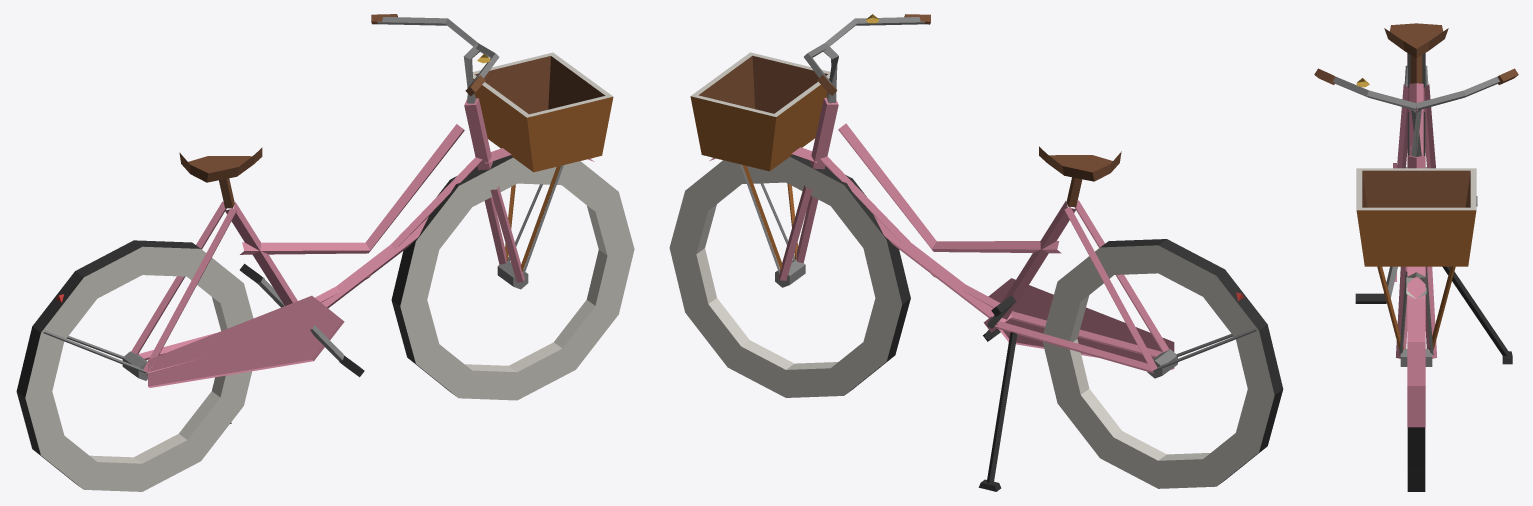
File: bisiklet.glb
3 renders of one model, left to right at view 1: azimuth 30°, elevation 25°; view 2: azimuth 150°, elevation 25°; view 3: azimuth 270°, elevation 25°, orthographic.
Visible parts, largest first — view 1: bisiklet; view 2: bisiklet; view 3: bisiklet.
Part boxes in pixels (x1,y1,x2,y2): bisiklet: [16, 14, 634, 491]; bisiklet: [669, 14, 1283, 491]; bisiklet: [1314, 23, 1518, 491].
Size of the model in its own units: 1.71 by 1 by 0.4949.
